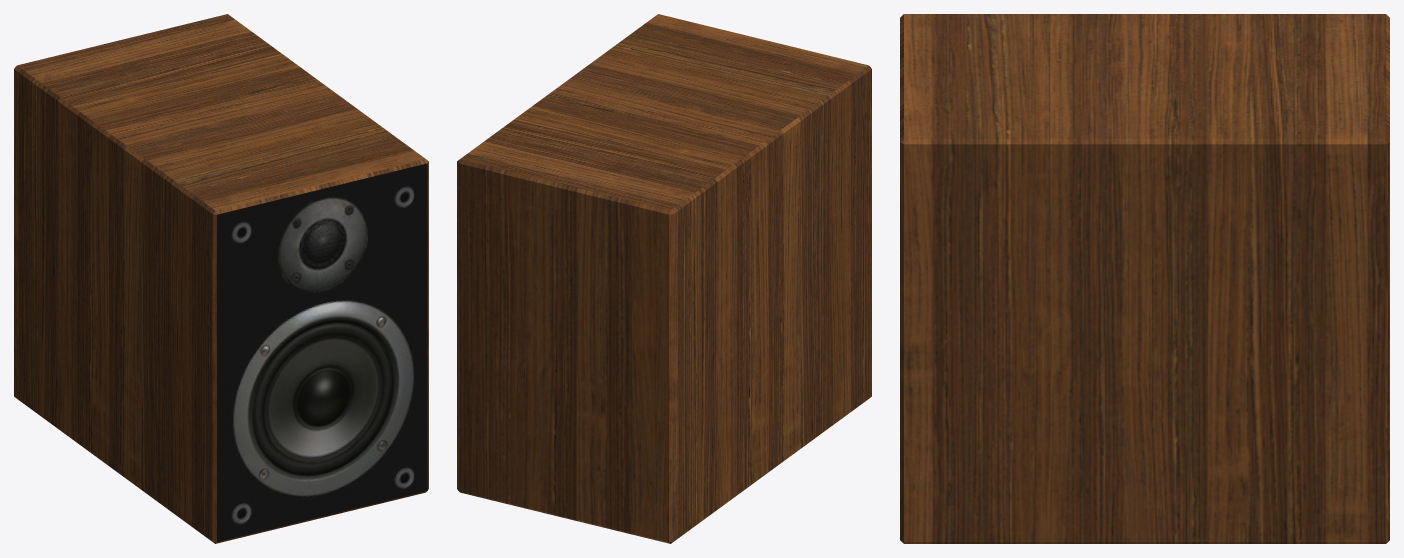
File: sound3c.FBX
3 renders of one model, left to right at view 1: azimuth 30°, elevation 25°; view 2: azimuth 150°, elevation 25°; view 3: azimuth 270°, elevation 25°, orthographic. The views are drawn at different scales.
Parts seen in each view (by area): view 1: sound3c; view 2: sound3c; view 3: sound3c.
Boxes of the visible parts, x1=… form: sound3c: x1=14, y1=14, x2=428, y2=543; sound3c: x1=457, y1=14, x2=871, y2=543; sound3c: x1=900, y1=14, x2=1389, y2=543.
Size of the model in its own units: 0.1544 by 0.249 by 0.2272.
